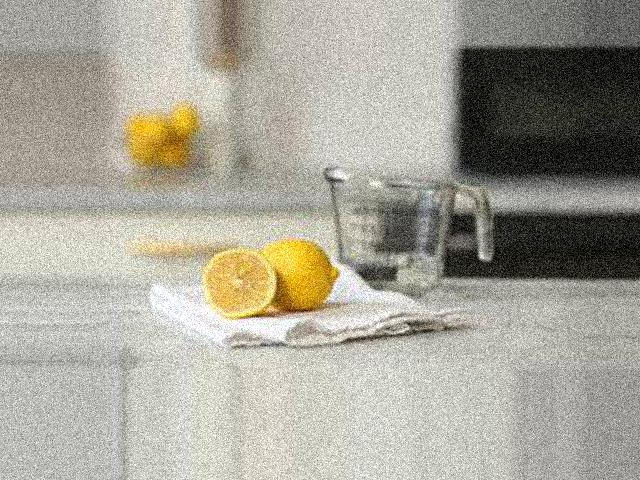lemon: (248, 234, 354, 321)
